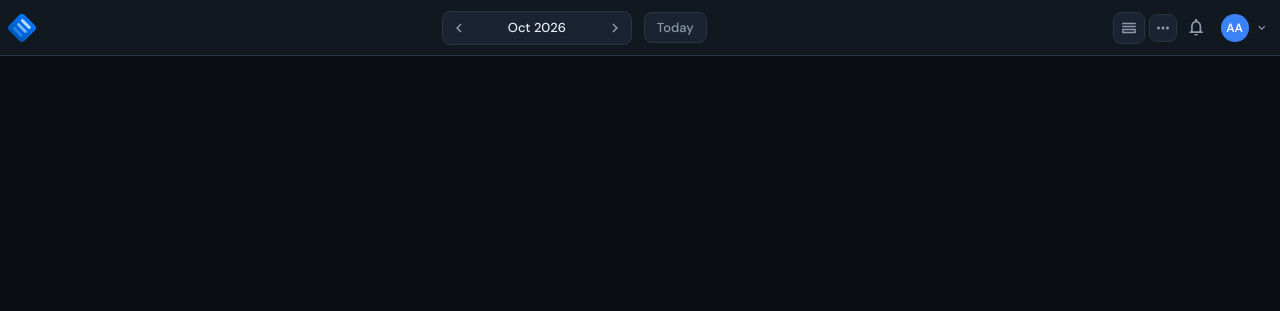
Header density › leaves no control unreachable at minimal
This screenshot has width=1280, height=311.
Click the button named "More controls" at (1162, 28), box [1148,14,1176,42]
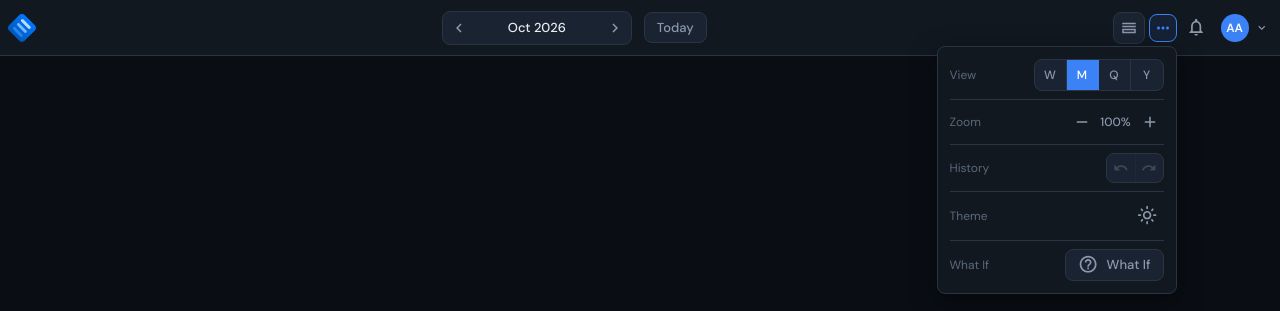
Expected: the button named "Zoom in" is shown, [1138,110,1162,134]
Expected: the button named "Zoom out" is shown, [1070,110,1094,134]
Expected: the button named "Undo" is shown, [1106,154,1134,182]
